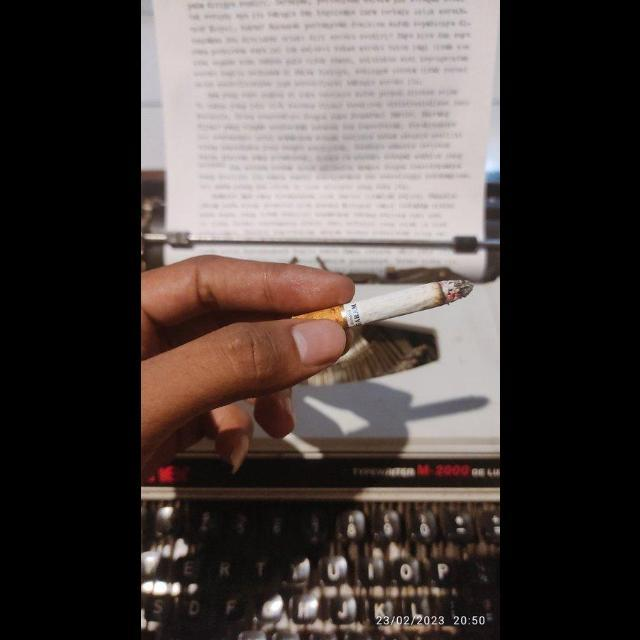rokok: (276, 272, 472, 336)
